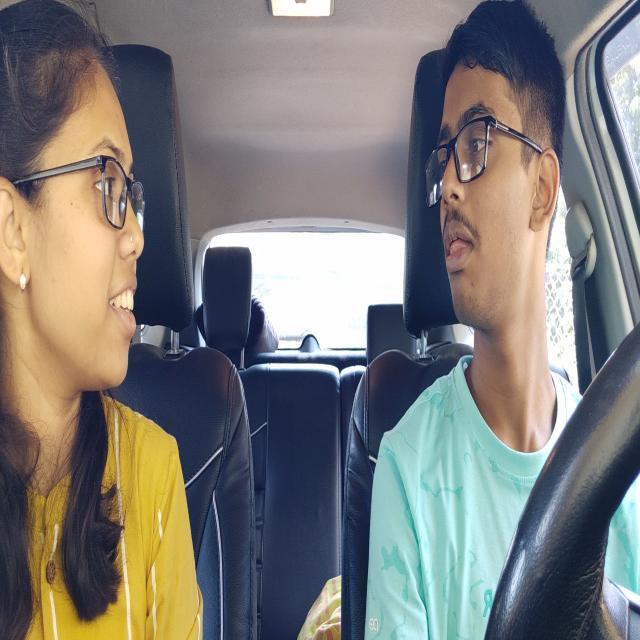LeftRight: (2, 24, 145, 386), (438, 22, 560, 331)
talking: (440, 218, 477, 275), (110, 274, 140, 328)
